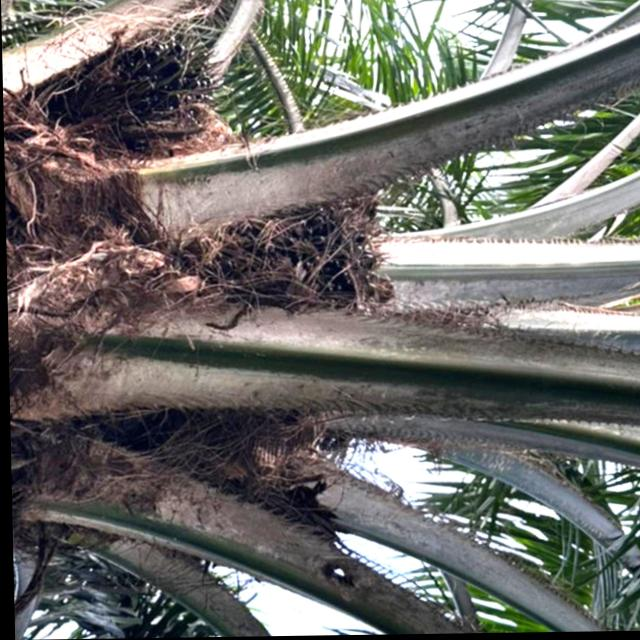unripe: (152, 186, 395, 325), (36, 20, 227, 150)
